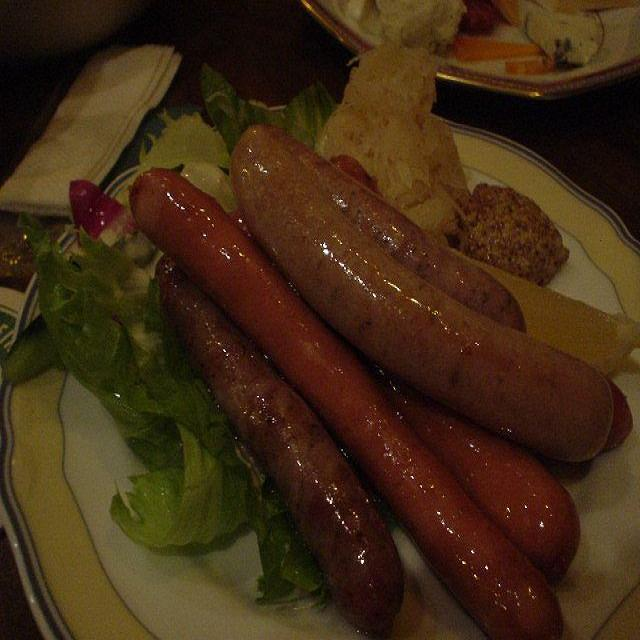Sausage: (126, 118, 604, 638)
